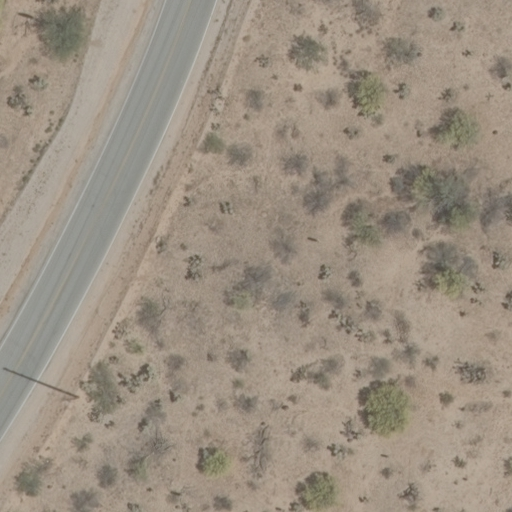DT: (53, 385, 82, 403)
